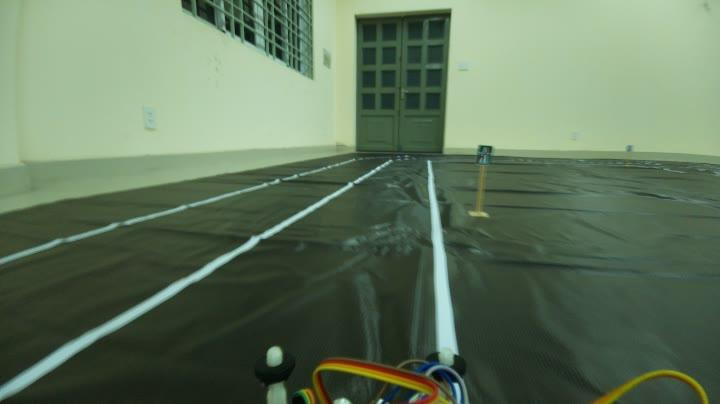highway_exit: (475, 143, 496, 169)
